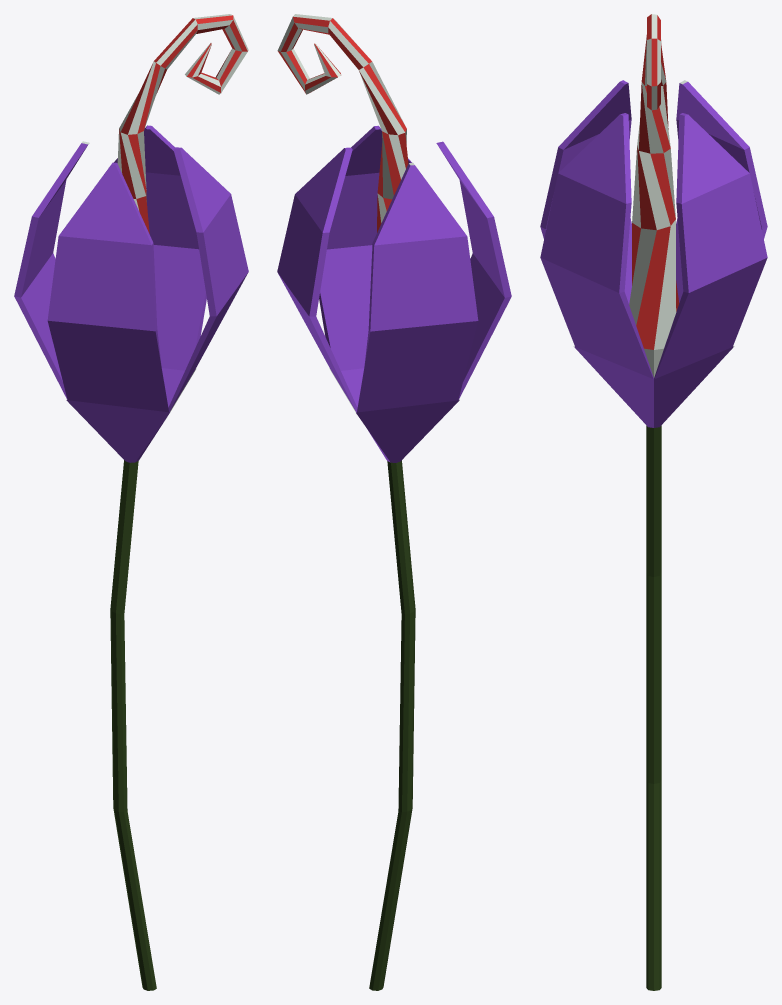
Rendered from flor.fbx.
3 views of the same model, side by side, from view 1: azimuth 30°, elevation 25°; view 2: azimuth 150°, elevation 25°; view 3: azimuth 270°, elevation 25° (orthographic). The views are drawn at different scales.
Visible parts, largest first — view 1: Circle; view 2: Circle; view 3: Circle.
Part boxes in pixels (x1=…): Circle: x1=14, y1=14, x2=248, y2=990; Circle: x1=277, y1=14, x2=511, y2=990; Circle: x1=540, y1=14, x2=767, y2=990.
Size of the model in its own units: 467 by 1974 by 408.
